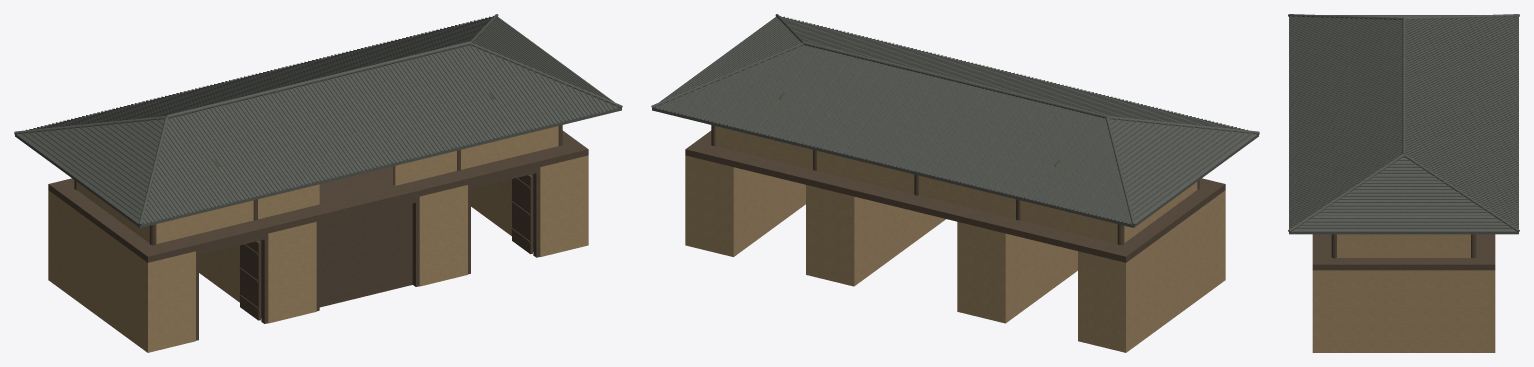
The model's file is pingcheng-P-LOD0.glb.
3 renders of one model, left to right at view 1: azimuth 30°, elevation 25°; view 2: azimuth 150°, elevation 25°; view 3: azimuth 270°, elevation 25°, orthographic. The views are drawn at different scales.
Parts seen in each view (by area): view 1: pingcheng-P-static_tile, pingcheng-P-static_earth, pingcheng-P-static_timber; view 2: pingcheng-P-static_tile, pingcheng-P-static_earth, pingcheng-P-static_timber; view 3: pingcheng-P-static_tile, pingcheng-P-static_earth, pingcheng-P-static_timber.
Part boxes in pixels (<box>): pingcheng-P-static_tile: <box>14,14,622,227</box>; pingcheng-P-static_earth: <box>48,126,588,352</box>; pingcheng-P-static_timber: <box>48,43,588,340</box>; pingcheng-P-static_tile: <box>651,14,1259,227</box>; pingcheng-P-static_earth: <box>685,126,1225,352</box>; pingcheng-P-static_timber: <box>685,43,1225,262</box>; pingcheng-P-static_tile: <box>1288,14,1519,234</box>; pingcheng-P-static_earth: <box>1312,234,1495,352</box>; pingcheng-P-static_timber: <box>1312,45,1495,270</box>.
Size of the model in its own units: 28.12 by 10.24 by 12.71.
Materials: 3 (3 with a texture image).
